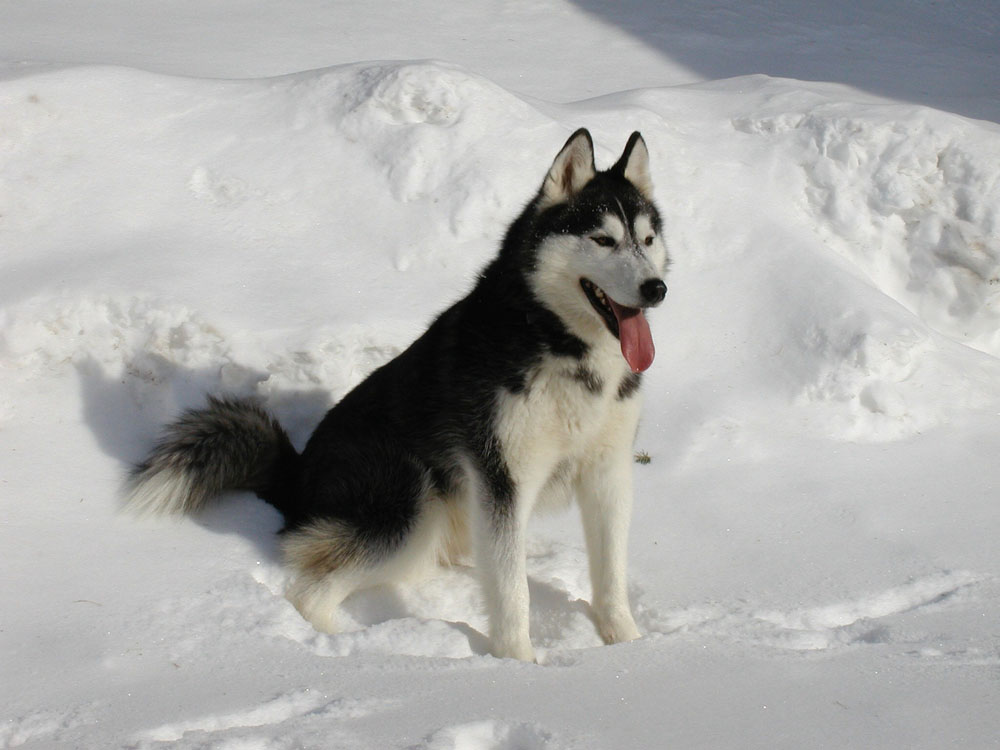husky: (249, 93, 704, 642)
